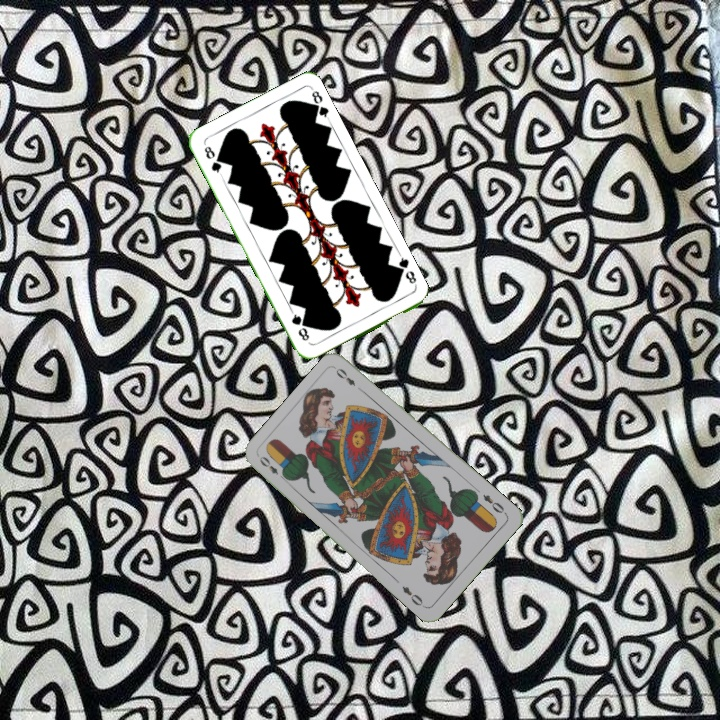EO: (255, 452, 289, 483), (479, 490, 509, 517)
G8: (391, 251, 420, 290), (200, 142, 224, 178)
